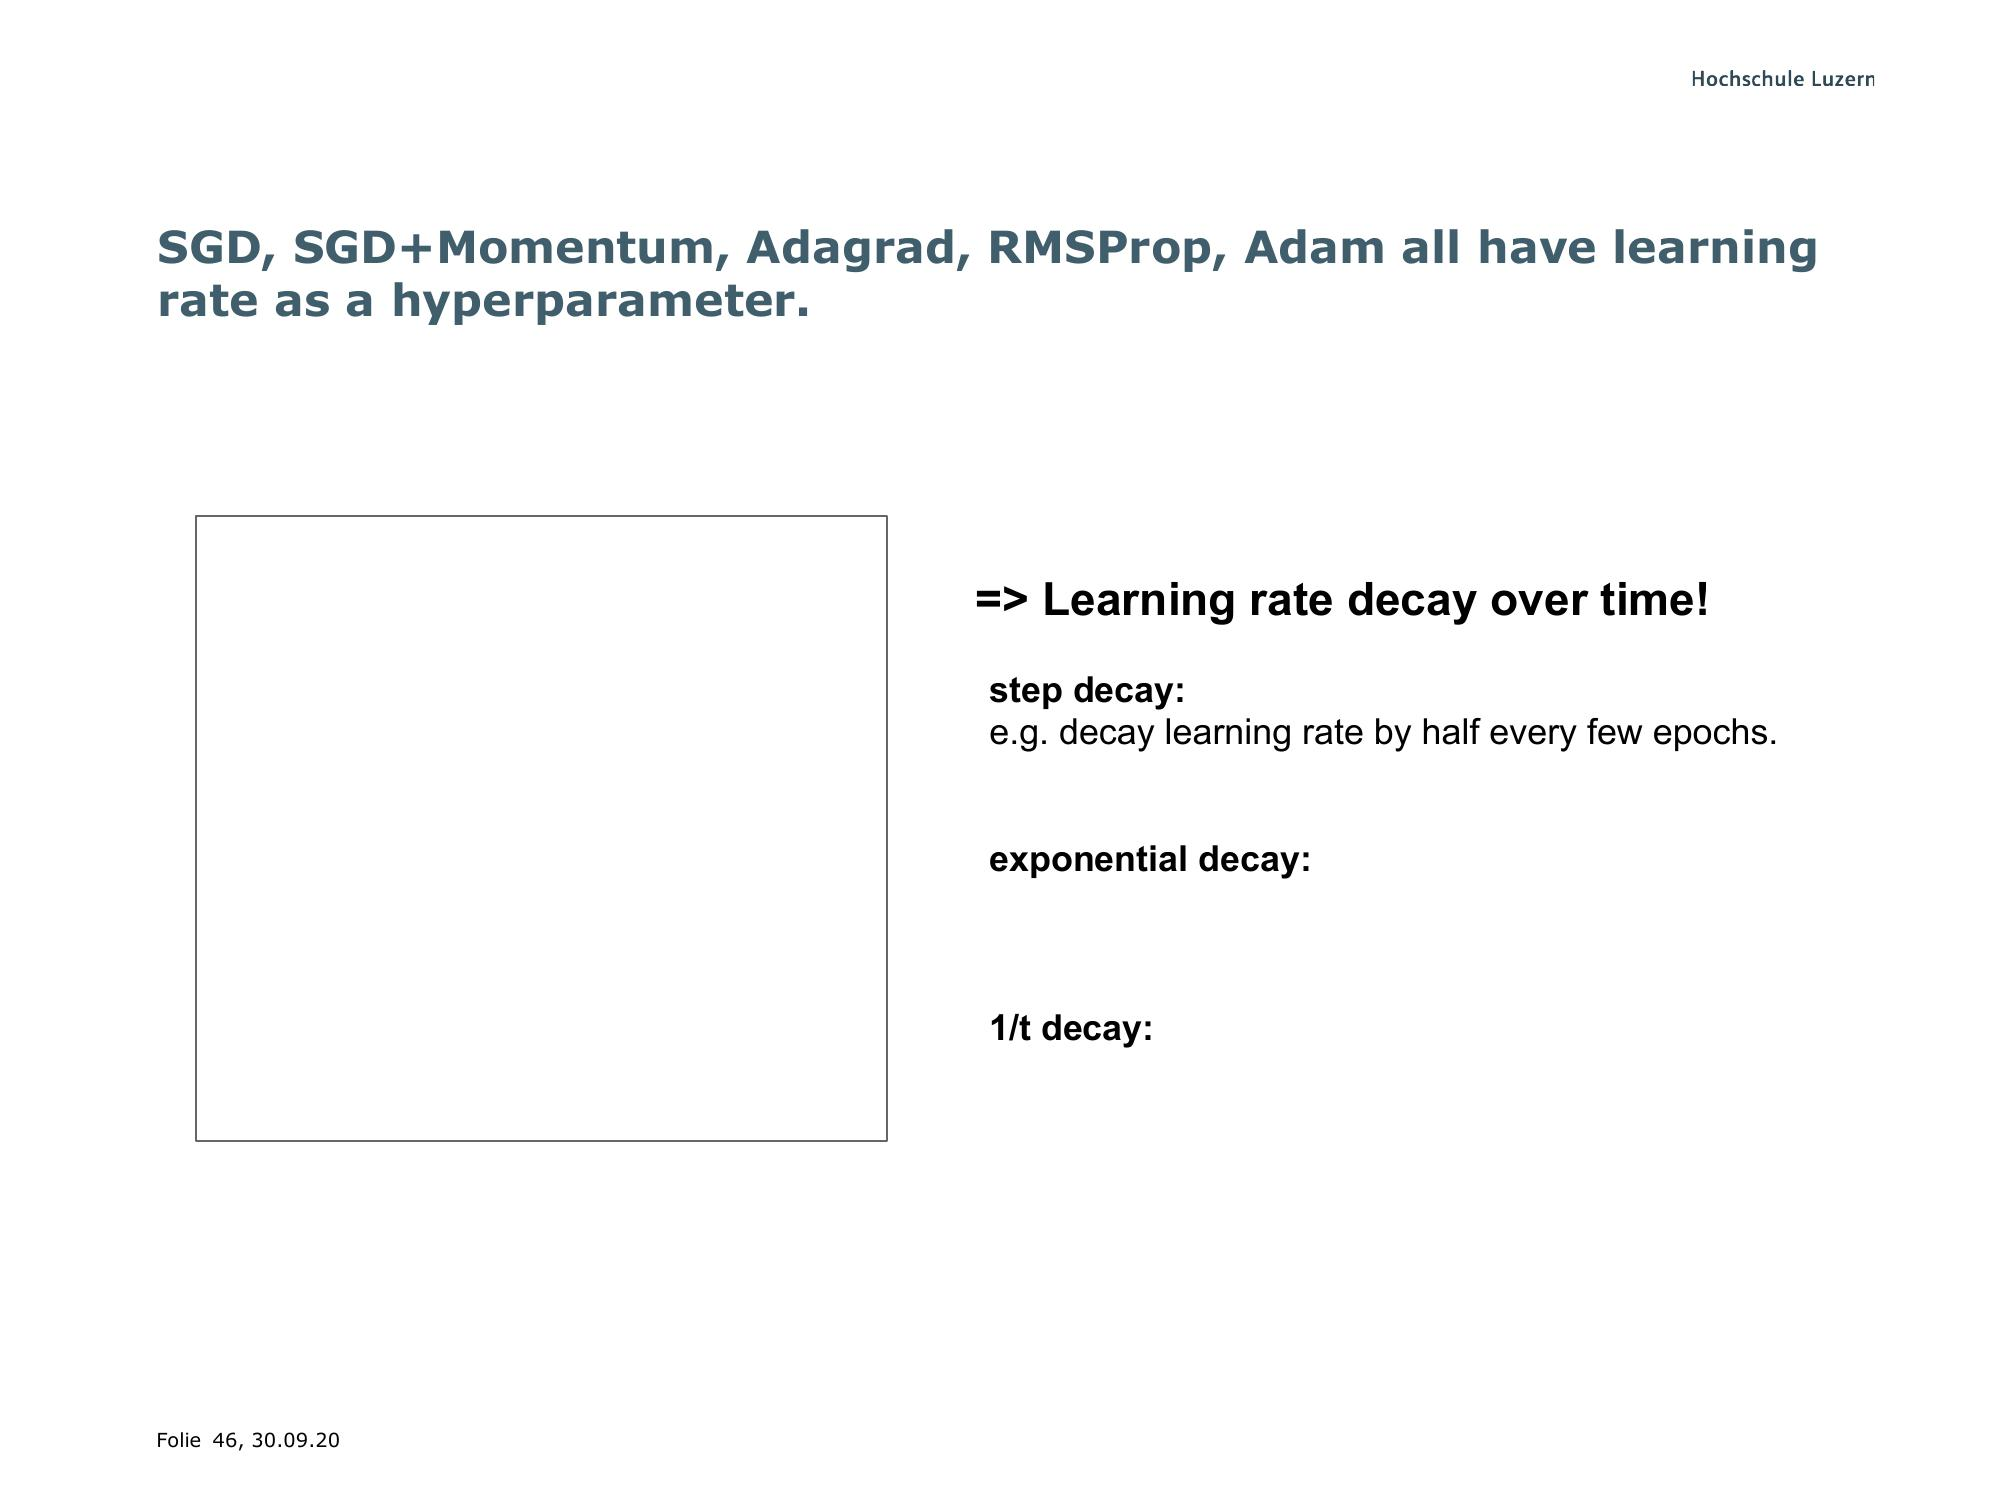Title: (132, 219, 1839, 342)
